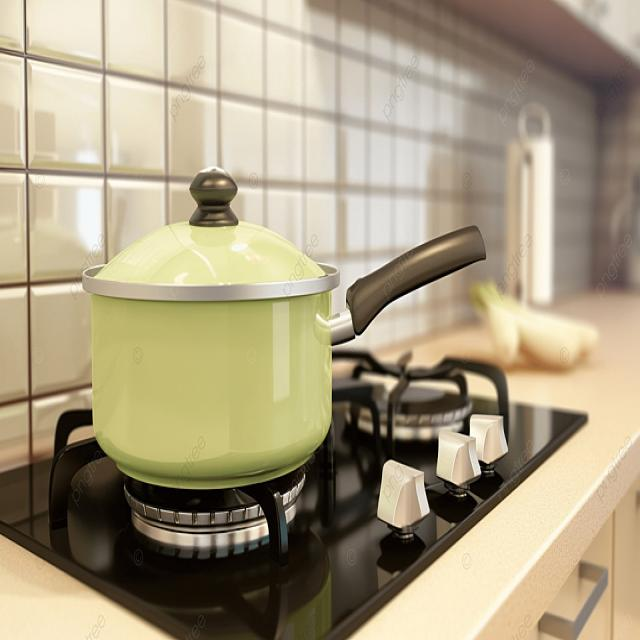knob_ON: (346, 371, 526, 442)
